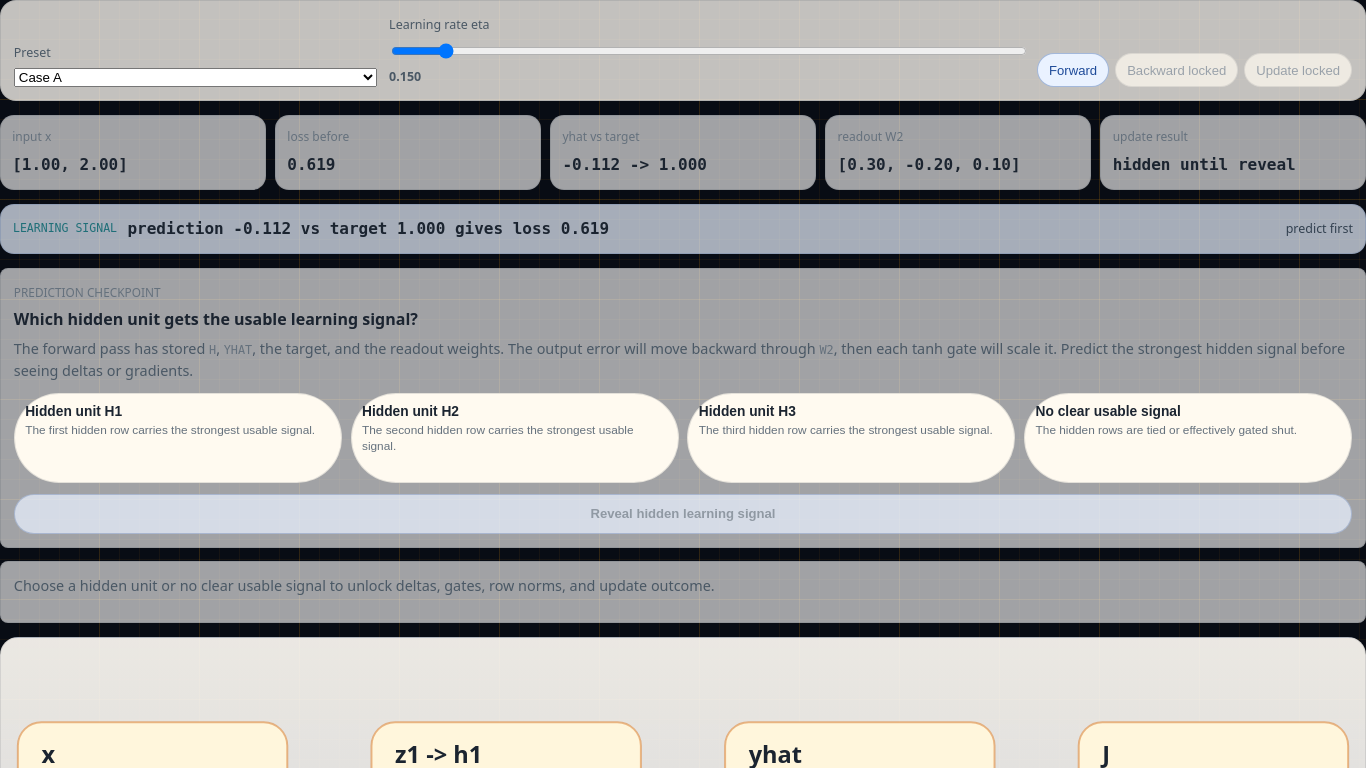
Test: BackpropagationViz hidden learning-signal reveal › clears stale reveal and shared state when learning rate changes
Click the button "Hidden unit H1": (178, 438) 14,393 -> 342,483
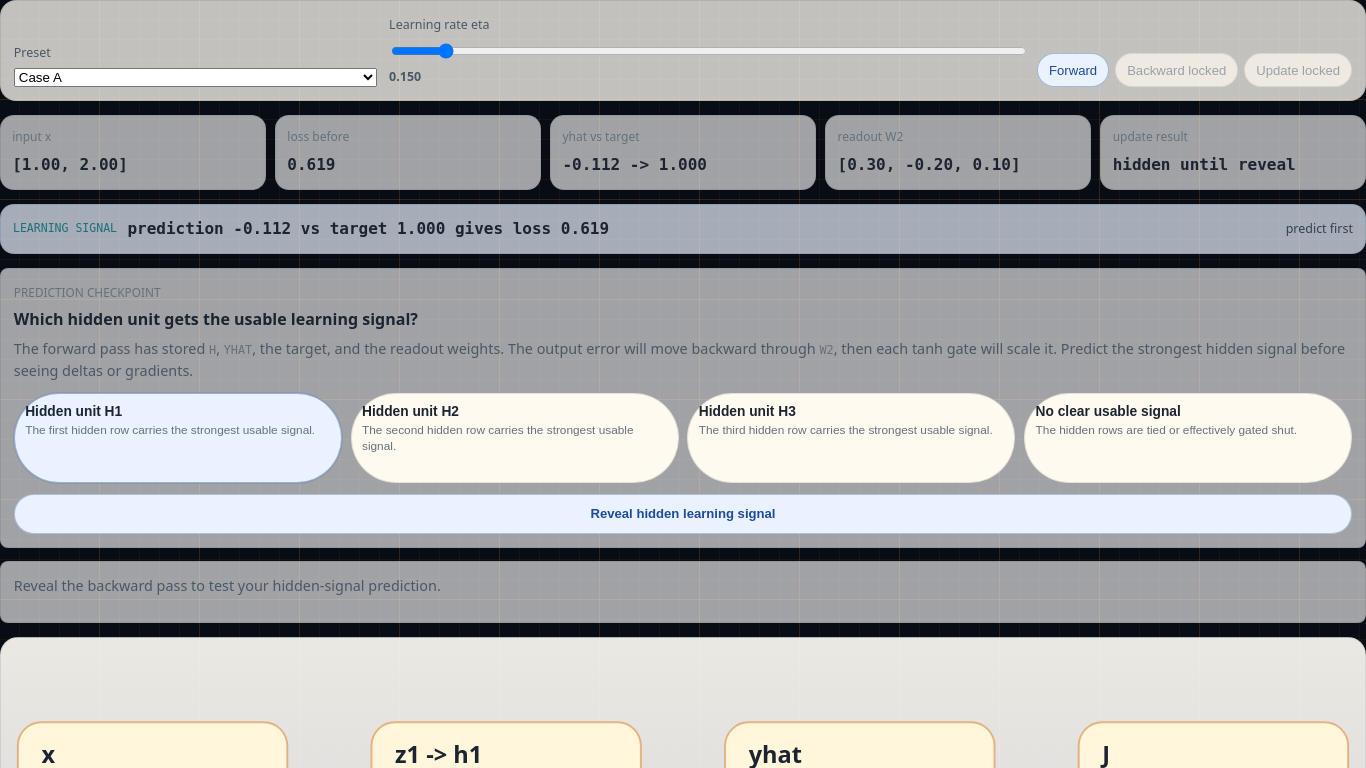
Click the button "Reveal hidden learning signal": (683, 514) 14,494 -> 1352,534
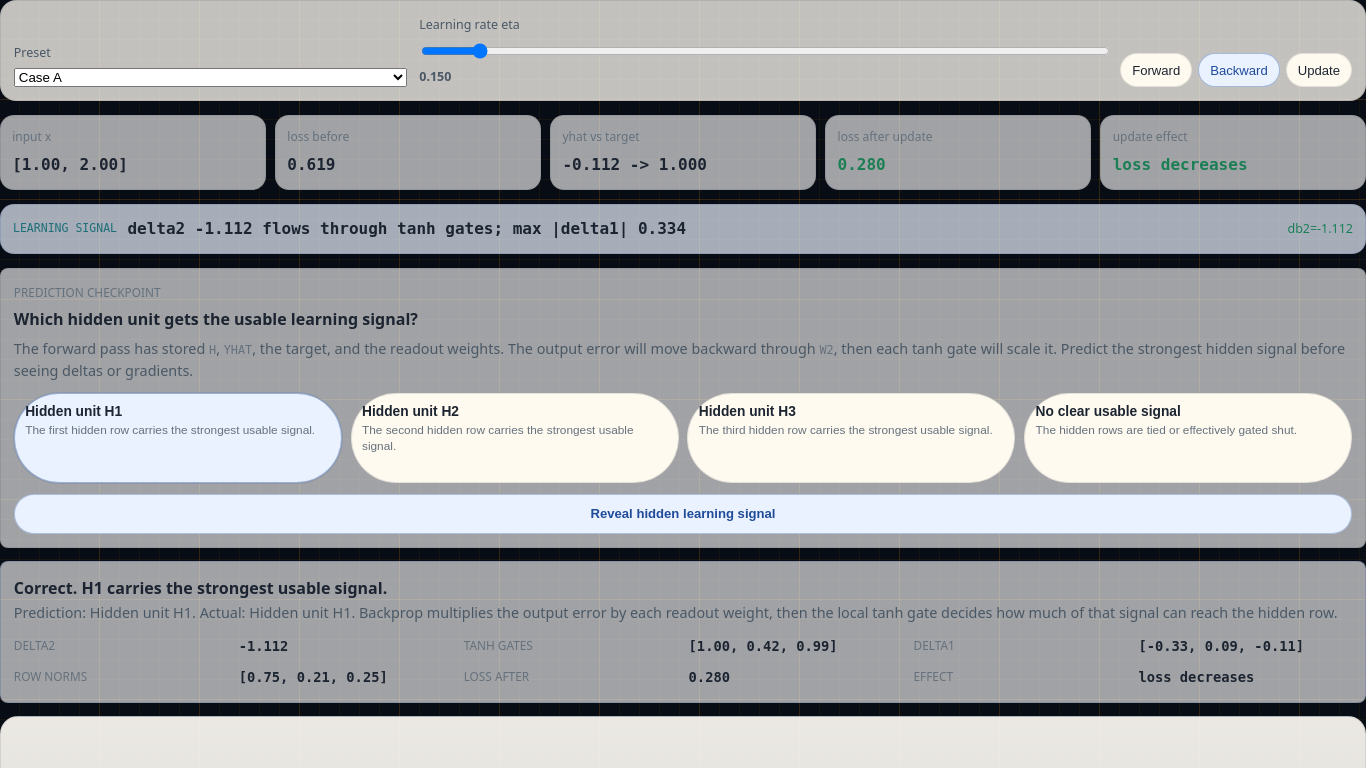
Result: the heading "Correct. H1 carries the strongest usable signal." is shown at 14,577 -> 387,599
Set the slider labelled "Learning rate eta" to "0.2": (497, 51) 421,43 -> 1110,59
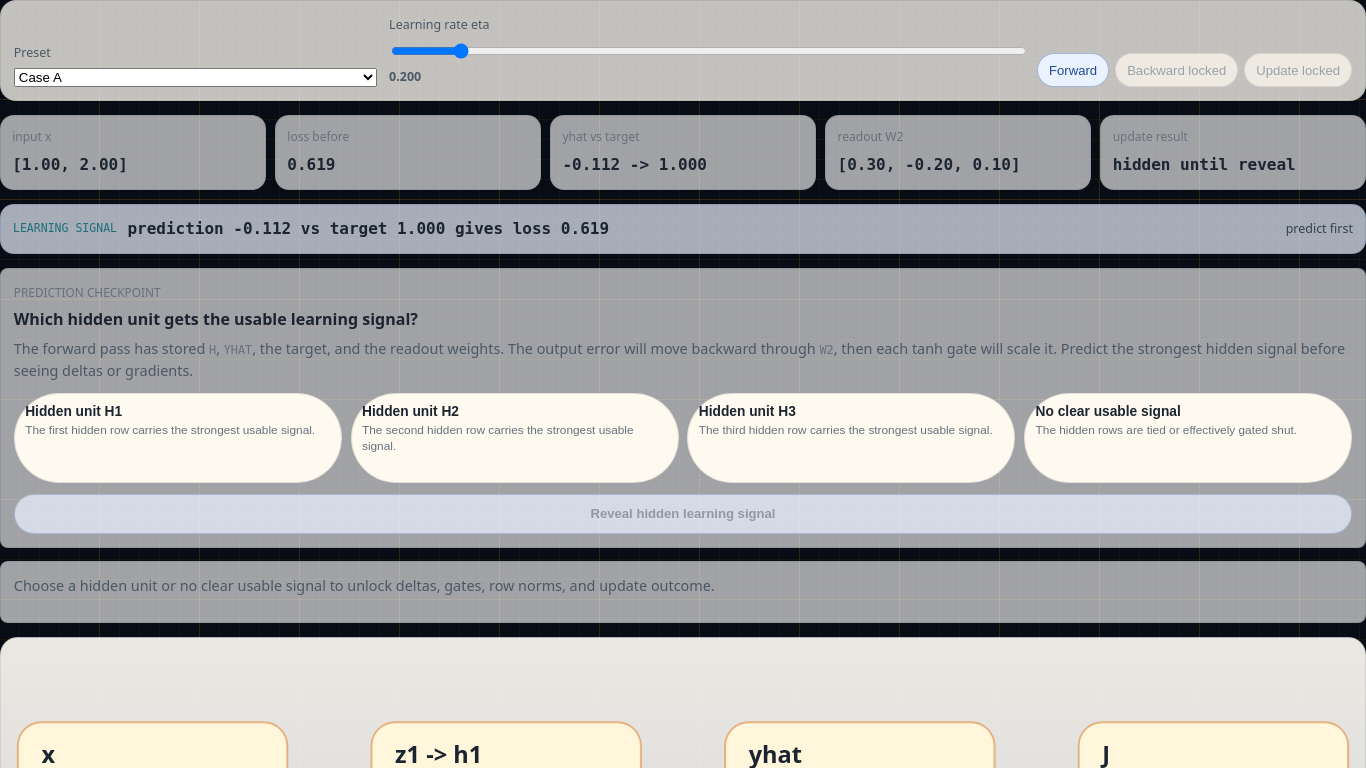
Result: the heading "Correct." is gone
Result: the button "Reveal hidden learning signal" is disabled at 14,494 -> 1352,534
Result: the text "loss after update" is gone
